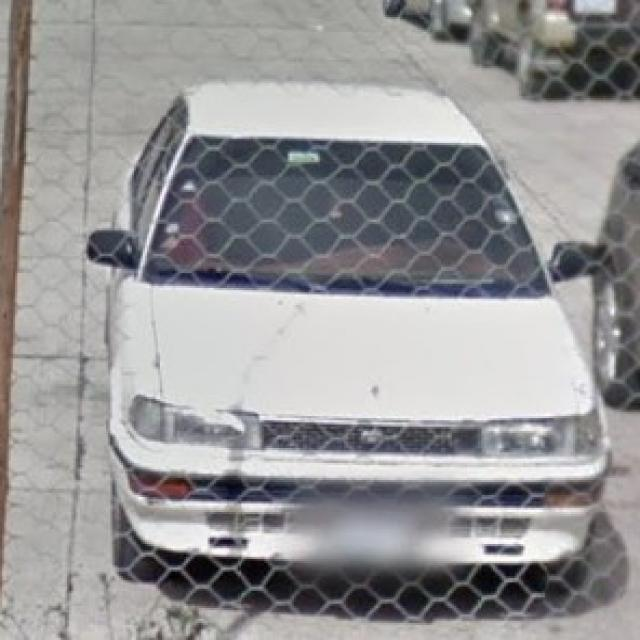cars: (84, 84, 614, 614)
